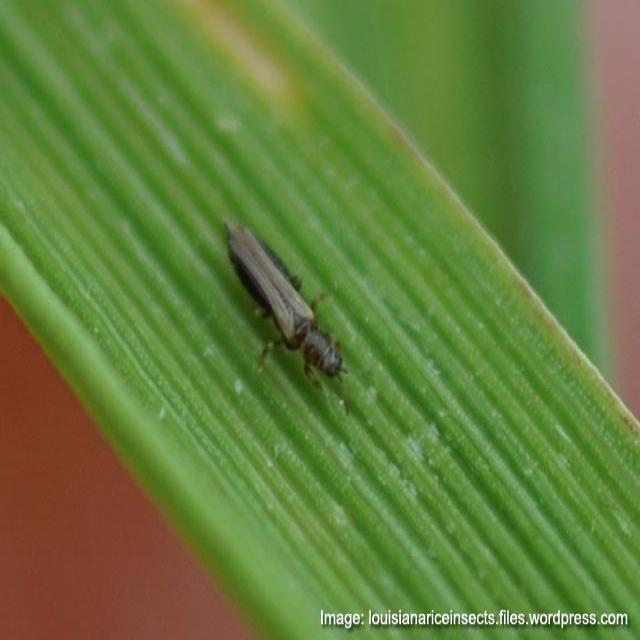Thrip-Adult-: (222, 204, 344, 392)
